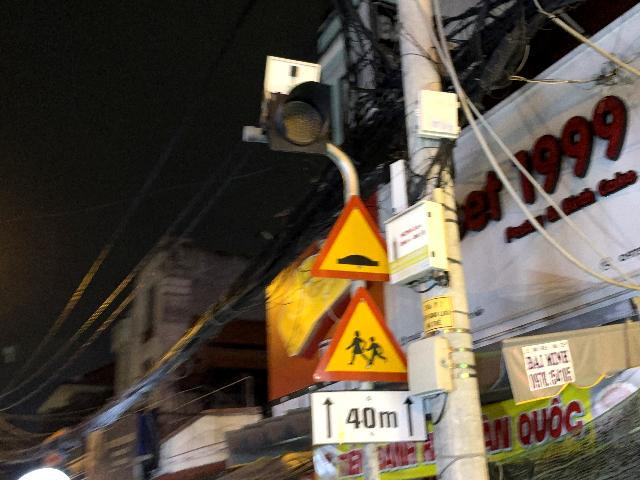duong-co-go-giam-toc: (311, 194, 389, 283)
tre-em-qua-duong: (312, 286, 408, 382)
